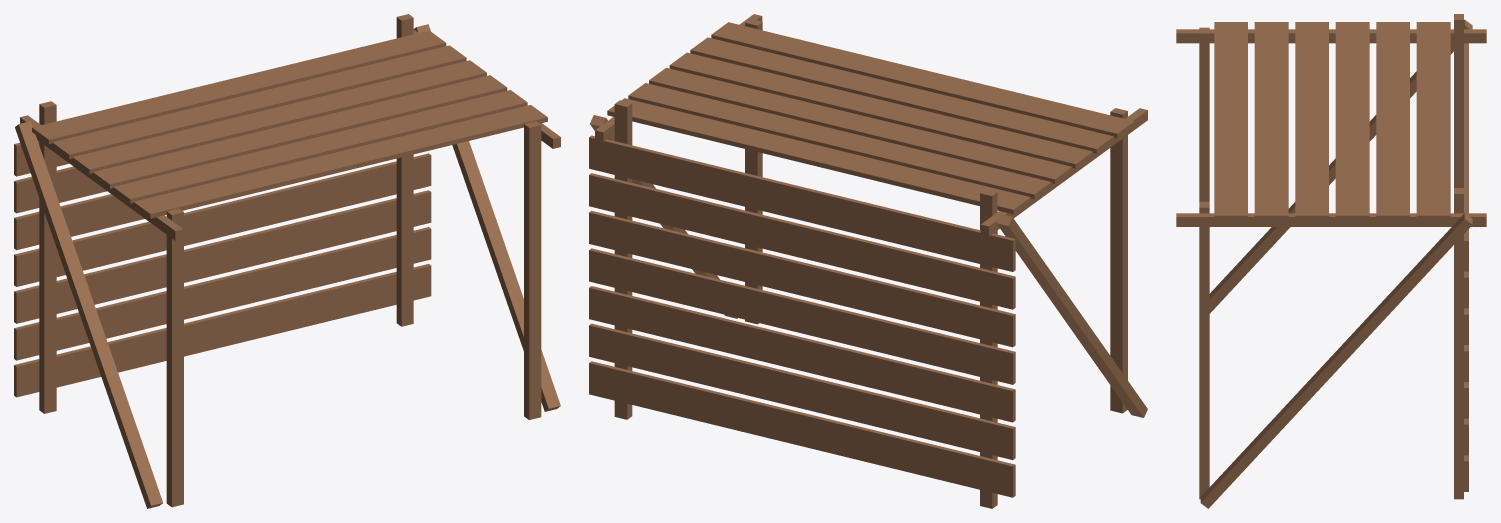
Rendered from Tent_5.fbx.
3 views of the same model, side by side, from view 1: azimuth 30°, elevation 25°; view 2: azimuth 150°, elevation 25°; view 3: azimuth 270°, elevation 25° (orthographic). The views are drawn at different scales.
Visible parts, largest first — view 1: Tent_5; view 2: Tent_5; view 3: Tent_5.
Part boxes in pixels (x1,y1,x2,y2): Tent_5: (14, 14, 560, 508); Tent_5: (589, 14, 1147, 508); Tent_5: (1176, 14, 1486, 508).
Bounding box in the file's own units: 362 × 255 × 235.
